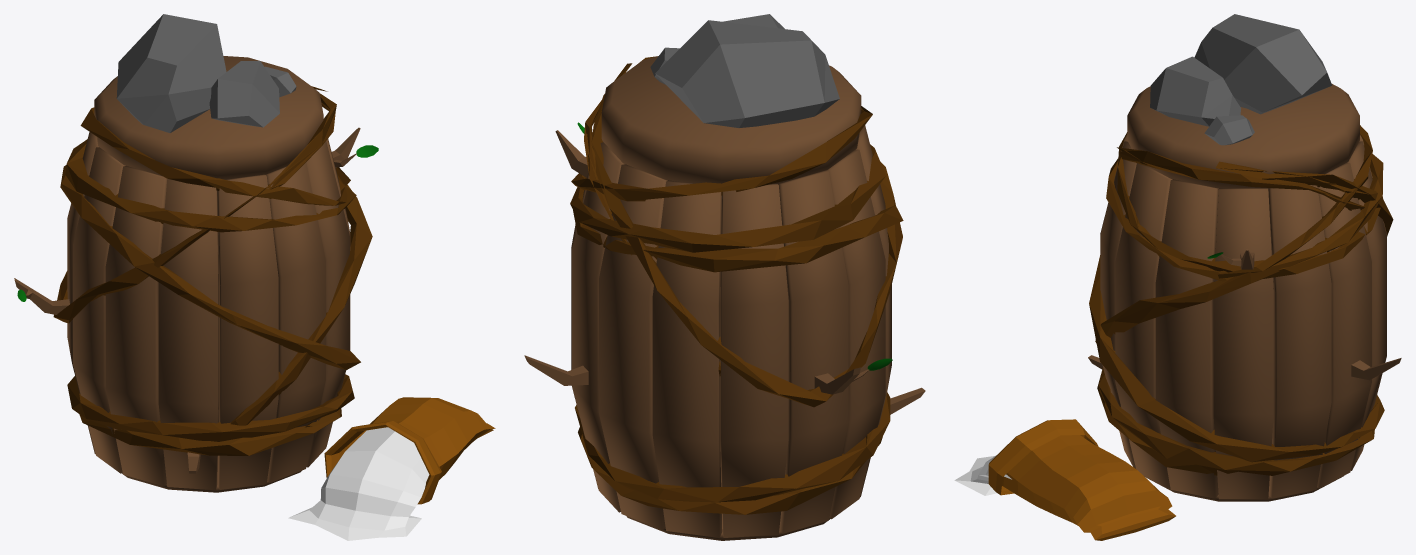
Rendered from 동물농장  술통.fbx.
The picture shows the model from 3 angles, left to right: view 1: azimuth 30°, elevation 25°; view 2: azimuth 150°, elevation 25°; view 3: azimuth 270°, elevation 25°; orthographic projection. The views are drawn at different scales.
Visible parts, largest first — view 1: Wine_Weat; view 2: Wine_Weat; view 3: Wine_Weat.
Part boxes in pixels (bbox=[...]): Wine_Weat: bbox=[14, 14, 495, 540]; Wine_Weat: bbox=[524, 14, 925, 540]; Wine_Weat: bbox=[954, 14, 1401, 540].
Bounding box in the file's own units: 362 × 379 × 368.
